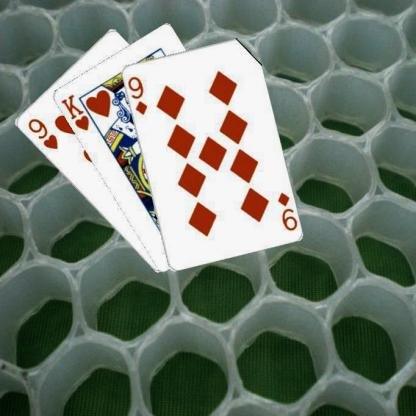9D: (274, 190, 298, 232), (125, 73, 148, 116)
9H: (25, 115, 58, 151)
KH: (58, 92, 90, 132)
